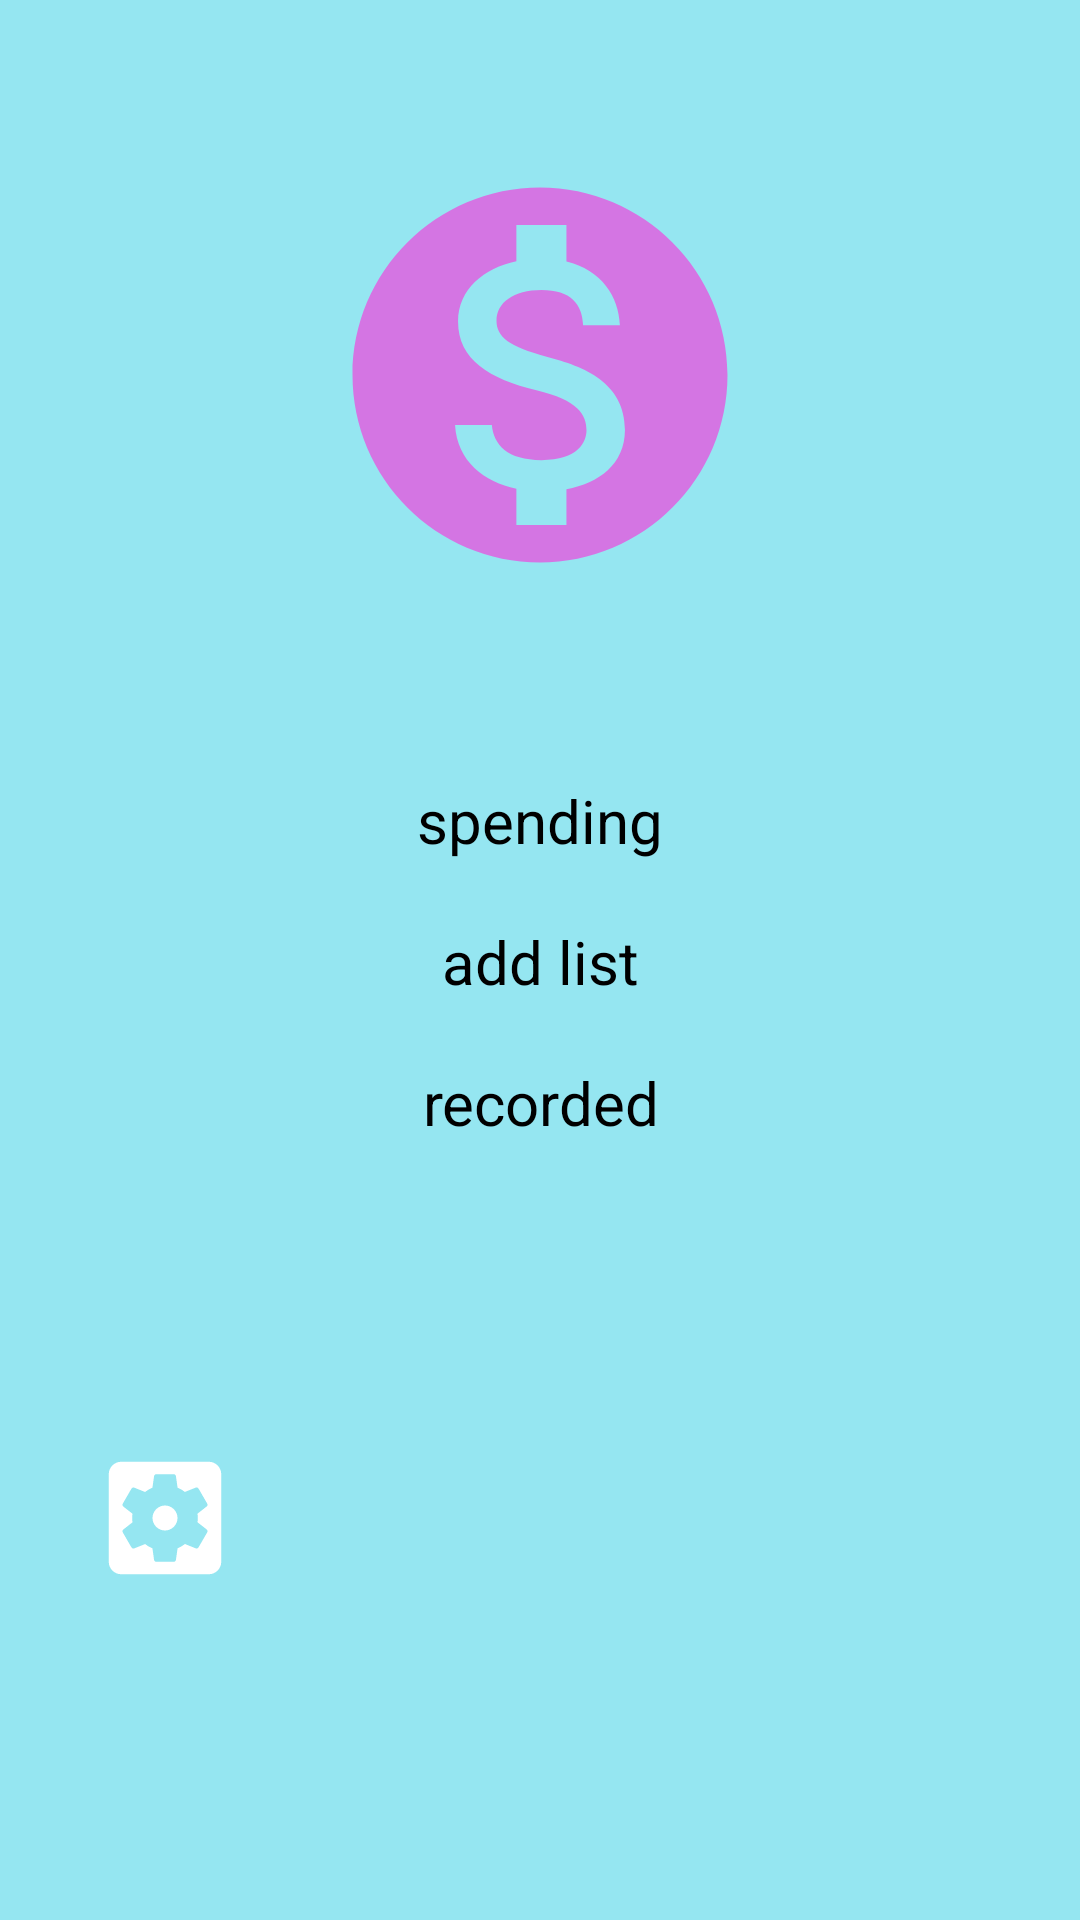

Screen size 1080px x 1920px. Icon name, then its center in pixels as point (x, y):
settings applications: point (165, 1518)
